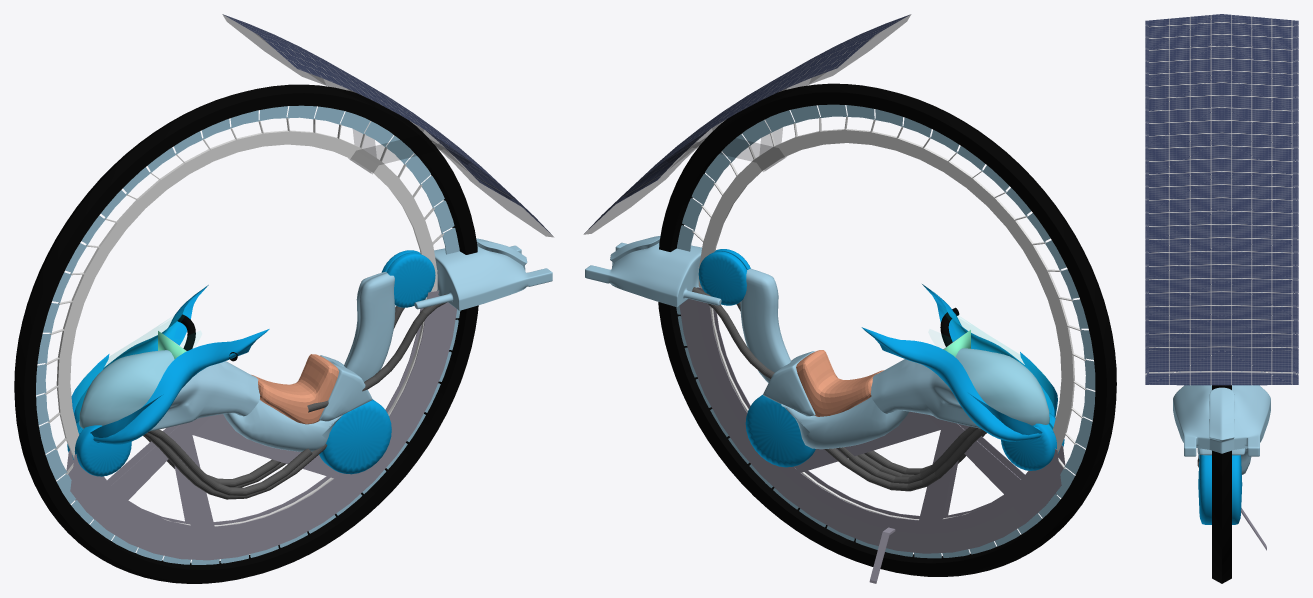
File: tron_uprising_-_argoncity_light_cycle.glb
3 renders of one model, left to right at view 1: azimuth 30°, elevation 25°; view 2: azimuth 150°, elevation 25°; view 3: azimuth 270°, elevation 25°, orthographic. The views are drawn at different scales.
Parts seen in each view (by area): view 1: Plane.007, Plane.010, Plane.005, Plane.011, Plane.004, Plane.012, Cube.001, Plane.001, Plane.009, Circle, Plane.006, Plane.003 (+8 smaller); view 2: Plane.007, Plane.010, Plane.005, Plane.011, Plane.004, Plane.012, Cube.001, Plane.001, Plane.006, Plane.009, Circle, Plane.003 (+8 smaller); view 3: Plane.012, Cube.001, Plane.007, Circle.
Part boxes in pixels (x1,y1,x2,y2): Plane.007: (14, 84, 478, 583); Plane.010: (66, 290, 456, 560); Plane.005: (36, 105, 460, 564); Plane.011: (44, 118, 443, 526); Plane.004: (79, 350, 260, 431); Plane.012: (222, 14, 553, 236); Cube.001: (414, 238, 552, 310); Plane.001: (74, 285, 269, 444); Plane.009: (344, 271, 395, 381); Circle: (319, 399, 391, 474); Plane.006: (223, 400, 342, 451); Plane.003: (251, 354, 338, 424); Plane.007: (658, 83, 1116, 576); Plane.010: (679, 287, 1065, 583); Plane.005: (676, 104, 1095, 558); Plane.011: (692, 116, 1086, 520); Plane.004: (871, 348, 1049, 428); Plane.012: (584, 14, 911, 234); Cube.001: (585, 236, 721, 307); Plane.001: (861, 284, 1054, 441); Plane.006: (781, 397, 908, 449); Plane.009: (740, 268, 791, 382); Circle: (745, 394, 815, 467); Plane.003: (796, 350, 883, 416); Plane.012: (1145, 14, 1298, 385); Cube.001: (1173, 385, 1270, 456); Plane.007: (1212, 385, 1231, 583); Circle: (1198, 454, 1242, 524).
Size of what is drawn, in the model's own units: 2.51 by 2.49 by 0.6287.
17 materials, 2 textured.
